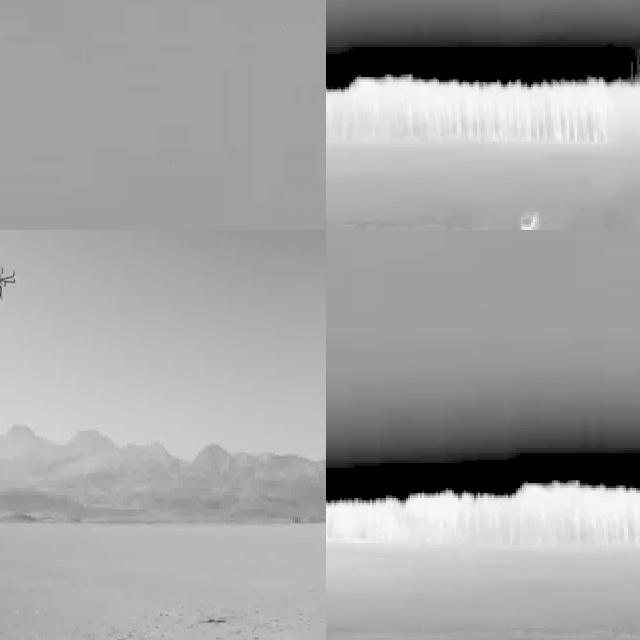0: (0, 25, 7, 55)
drone: (0, 258, 14, 306)
